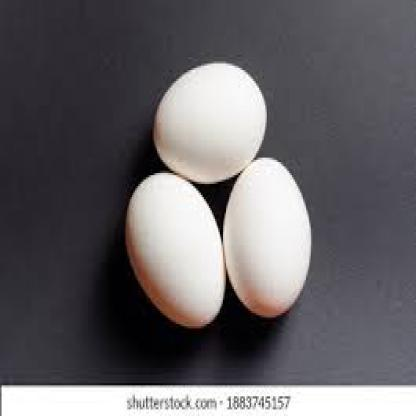egg: (124, 172, 226, 330), (222, 154, 314, 319), (152, 61, 270, 187)
